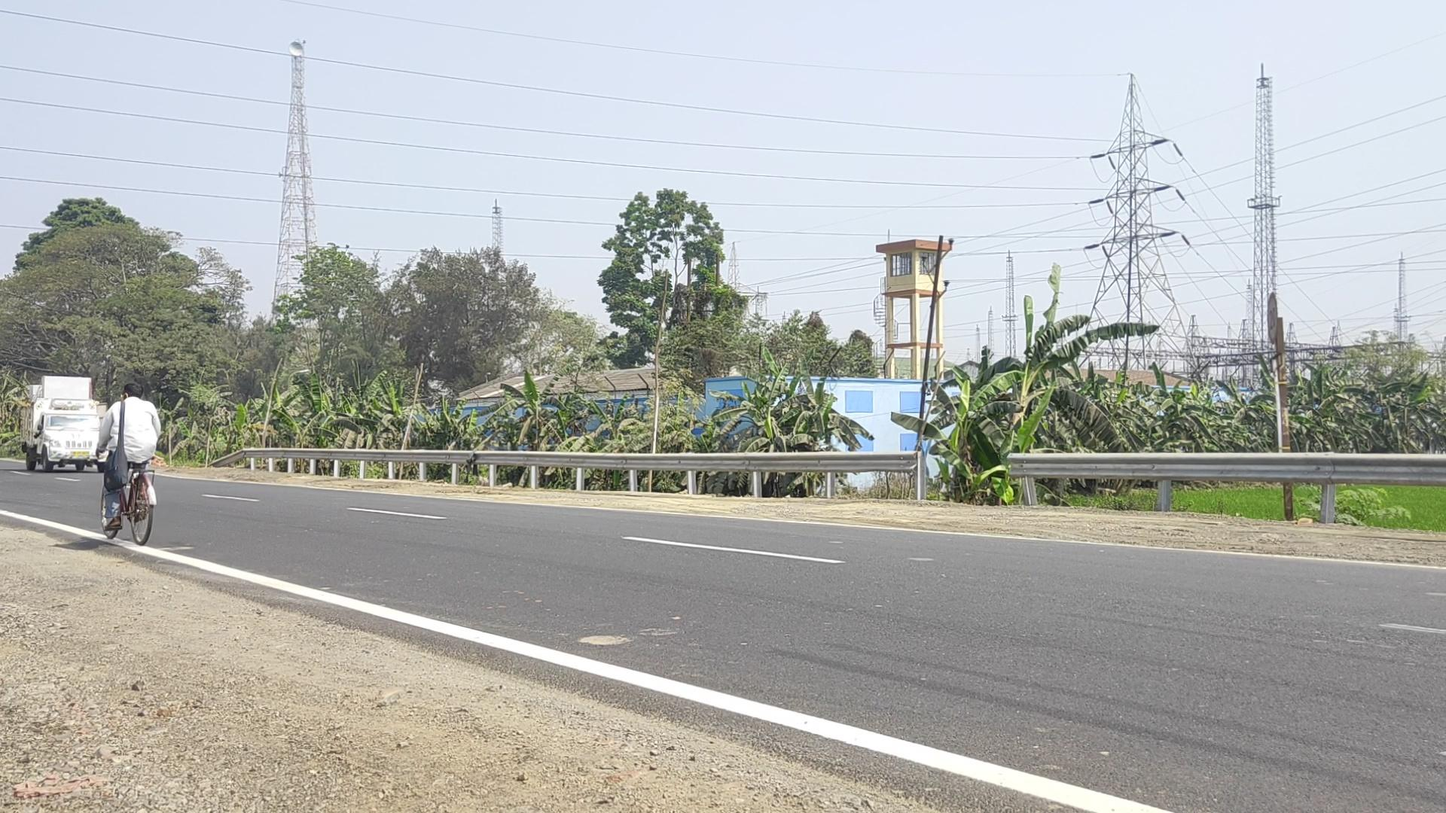bike: (96, 384, 160, 546)
van: (18, 376, 108, 473)
